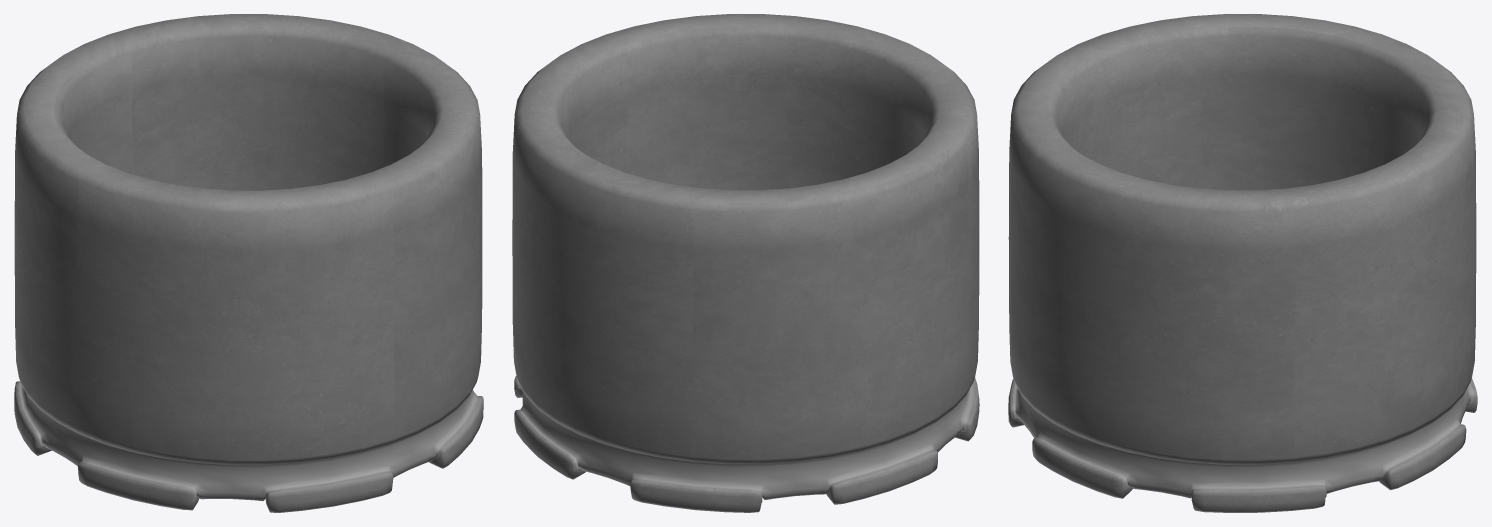
Rendered from Needle bearing or bush bearing.fbx.
3 views of the same model, side by side, from view 1: azimuth 30°, elevation 25°; view 2: azimuth 150°, elevation 25°; view 3: azimuth 270°, elevation 25° (orthographic).
Parts seen in each view (by area): view 1: Cylinder.001; view 2: Cylinder.001; view 3: Cylinder.001.
Part boxes in pixels (x1,y1,x2,y2): Cylinder.001: (14,14,483,512); Cylinder.001: (512,14,979,512); Cylinder.001: (1008,14,1477,512).
Bounding box in the file's own units: 41.06 × 29.77 × 41.17.
1 material, 1 textured.
